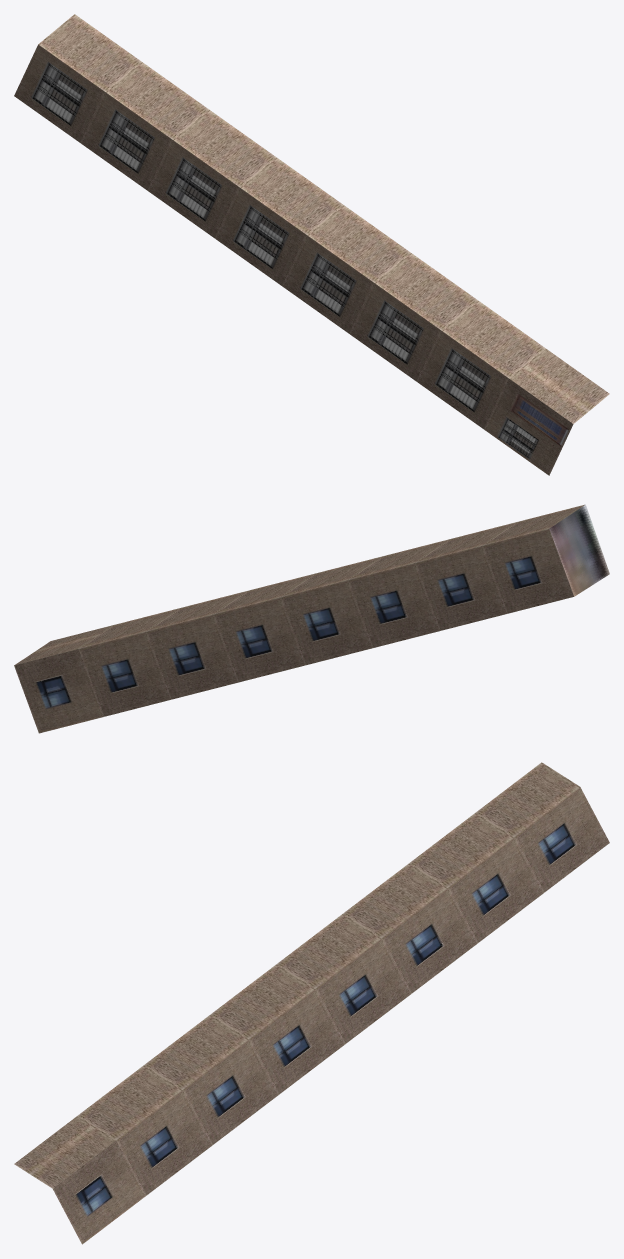
3 views of the same model, one above another, from view 1: azimuth 30°, elevation 25°; view 2: azimuth 210°, elevation 25°; view 3: azimuth 270°, elevation 25° (orthographic). The views are drawn at different scales.
Size of the model in its own units: 16.06 by 14.48 by 23.78.
4 materials, 4 textured.
